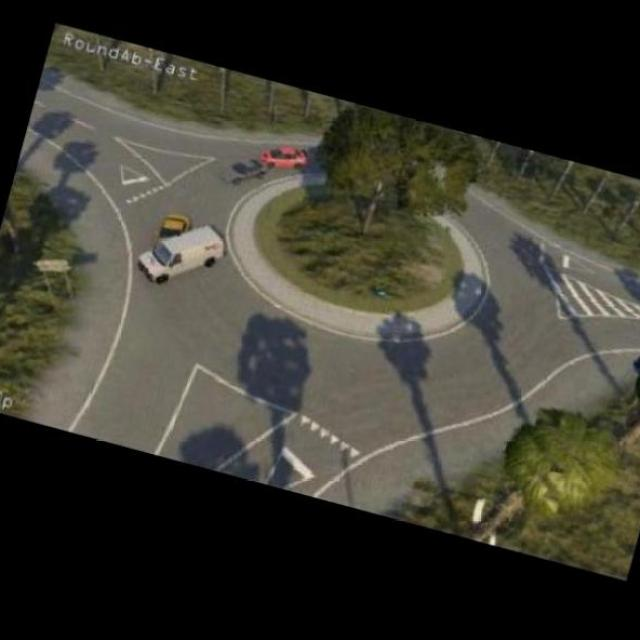accident: (135, 202, 193, 274)
